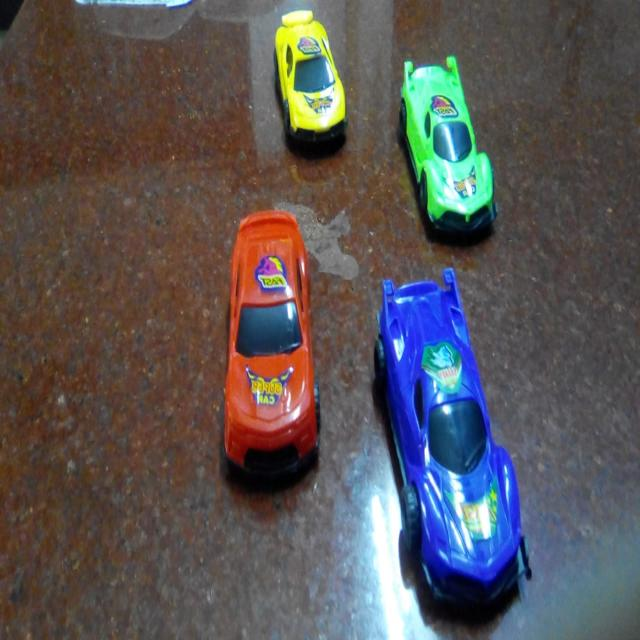Car: (374, 266, 532, 610), (223, 209, 321, 481), (399, 54, 499, 238), (274, 9, 349, 146)
